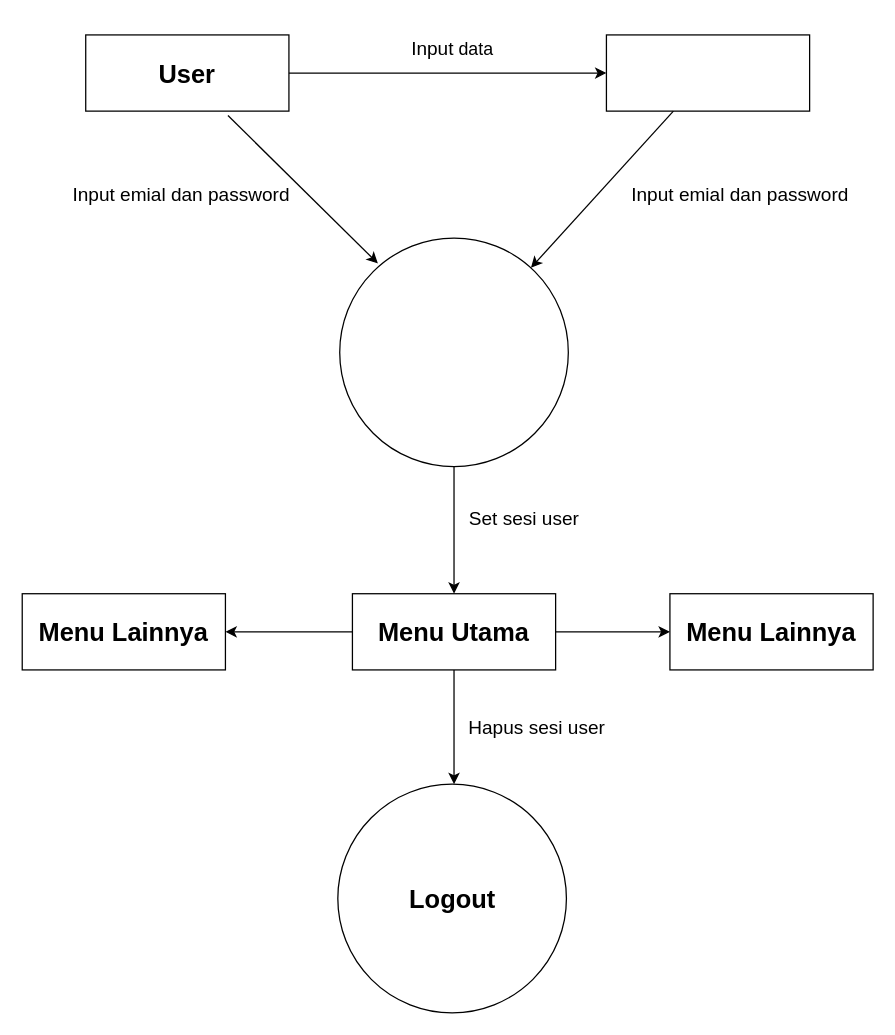
This 895x1035 diagram has some shape labels left out. The centre of each missing label's shape, as x and y in pixels:
"Login" belongs at [453,352].
"Registrasi" belongs at [707,72].
